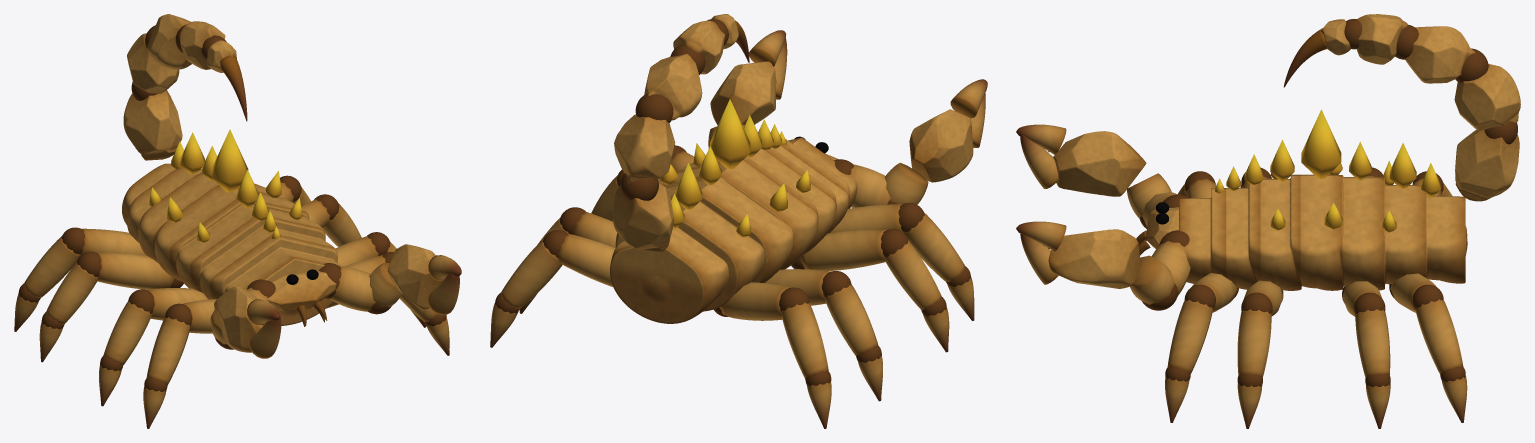
The model's file is glass-matriarch-sculpt.glb.
The picture shows the model from 3 angles, left to right: view 1: azimuth 30°, elevation 25°; view 2: azimuth 150°, elevation 25°; view 3: azimuth 270°, elevation 25°; orthographic projection. The views are drawn at different scales.
Visible parts, largest first — view 1: glass-matriarch_sculpt; view 2: glass-matriarch_sculpt; view 3: glass-matriarch_sculpt.
Boxes of the visible parts, box(x1,y1,x2,y2) form: glass-matriarch_sculpt: box(14, 14, 461, 428); glass-matriarch_sculpt: box(490, 14, 987, 428); glass-matriarch_sculpt: box(1016, 14, 1520, 428).
Bounding box in the file's own units: 1.17 × 1.02 × 1.43.
